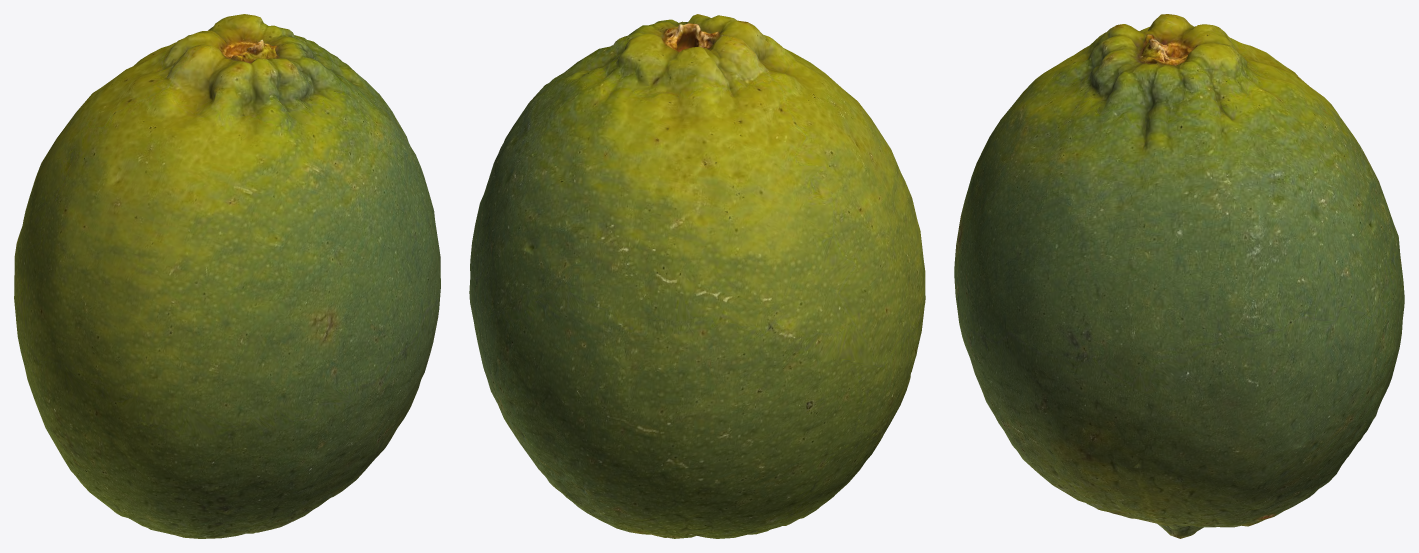
File: food_lime_01_1k.gltf
3 renders of one model, left to right at view 1: azimuth 30°, elevation 25°; view 2: azimuth 150°, elevation 25°; view 3: azimuth 270°, elevation 25°, orthographic.
Parts seen in each view (by area): view 1: food_lime_01; view 2: food_lime_01; view 3: food_lime_01.
Part boxes in pixels (x1,y1,x2,y2): food_lime_01: (14,14,440,538); food_lime_01: (469,14,925,538); food_lime_01: (954,14,1404,538).
Size of the model in its own units: 0.0601 by 0.0754 by 0.0613.
1 material, 1 textured.
